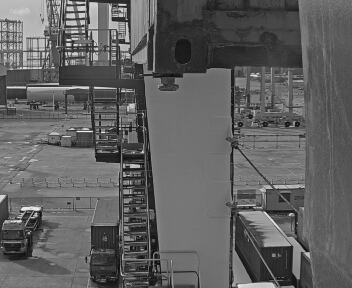twist_lock_1: (225, 166, 280, 208)
